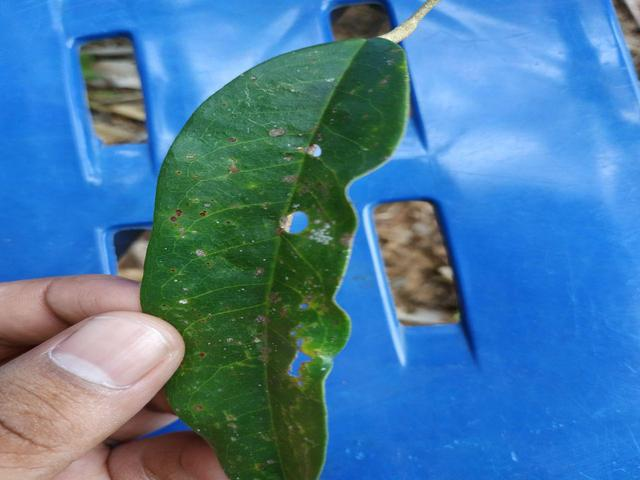blight spot: (274, 287, 320, 398), (269, 200, 318, 244), (298, 137, 339, 172)
